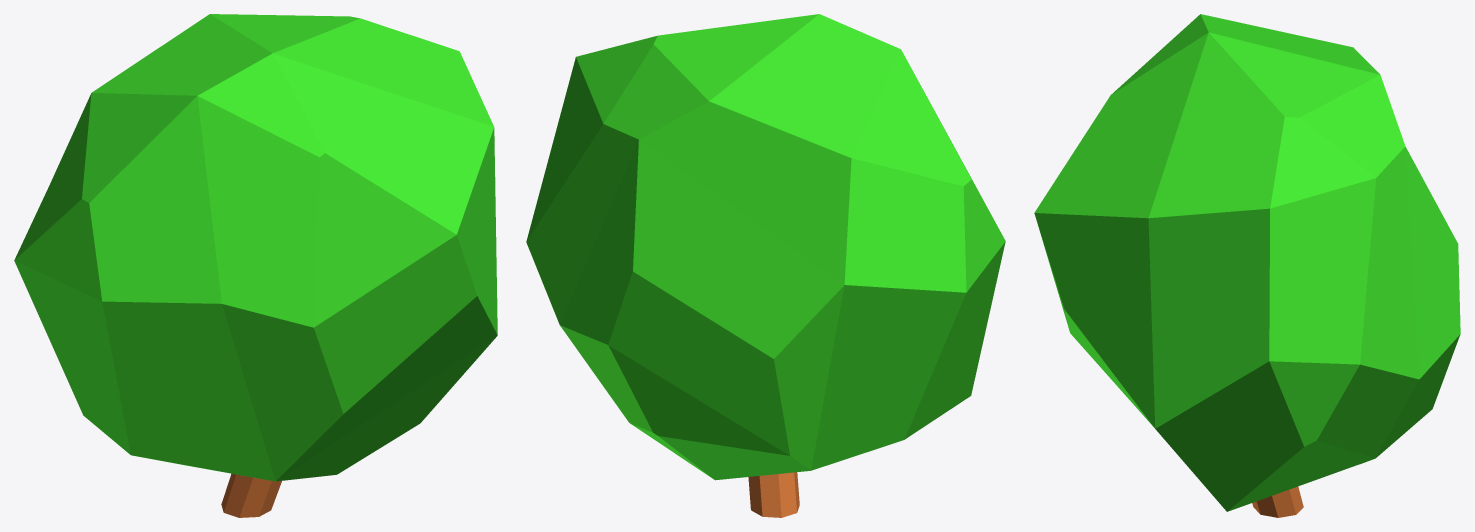
File: trees_10.fbx
The picture shows the model from 3 angles, left to right: view 1: azimuth 30°, elevation 25°; view 2: azimuth 150°, elevation 25°; view 3: azimuth 270°, elevation 25°; orthographic projection. The views are drawn at different scales.
Visible parts, largest first — view 1: 10; view 2: 10; view 3: 10.
Part boxes in pixels (<box>): 10: <box>14,14,497,517</box>; 10: <box>526,14,1005,517</box>; 10: <box>1034,14,1460,517</box>.
Bounding box in the file's own units: 1.45 × 1.46 × 1.2.
